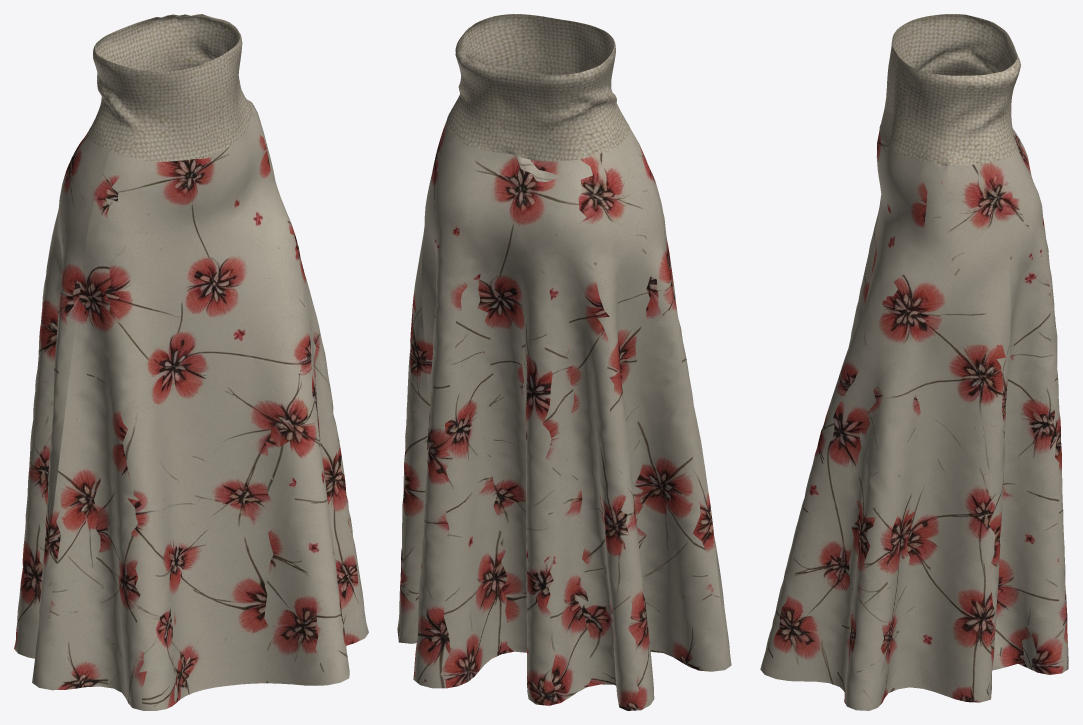
File: Robe2-4.glb
3 views of the same model, side by side, from view 1: azimuth 30°, elevation 25°; view 2: azimuth 150°, elevation 25°; view 3: azimuth 270°, elevation 25° (orthographic). The views are drawn at different scales.
Visible parts, largest first — view 1: Object_5.003; view 2: Object_5.003; view 3: Object_5.003.
Boxes of the visible parts, x1,y1,x2,y2 form: Object_5.003: (14, 14, 368, 710); Object_5.003: (397, 14, 731, 710); Object_5.003: (760, 14, 1068, 710).
Size of the model in its own units: 0.5299 by 0.9888 by 0.4574.
Materials: 2 (2 with a texture image).
